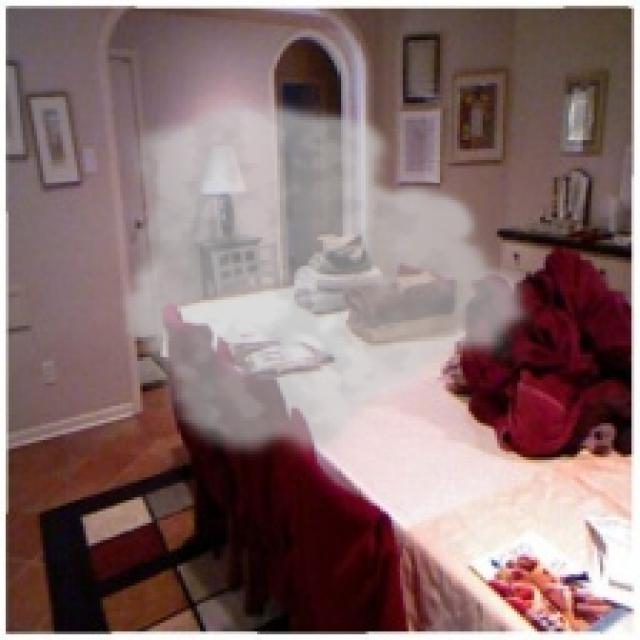smoke: (117, 94, 537, 466)
